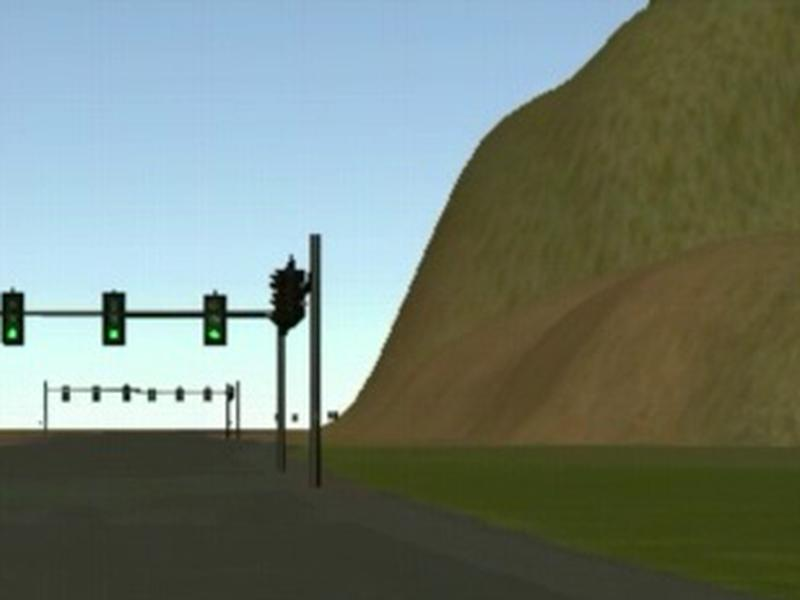Green: (1, 290, 24, 344), (103, 291, 124, 344), (203, 295, 225, 345)
